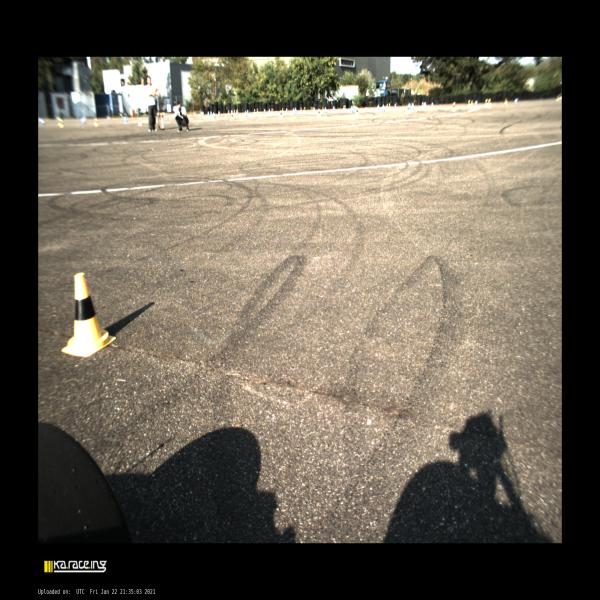yellow_cone: (61, 273, 116, 357)
